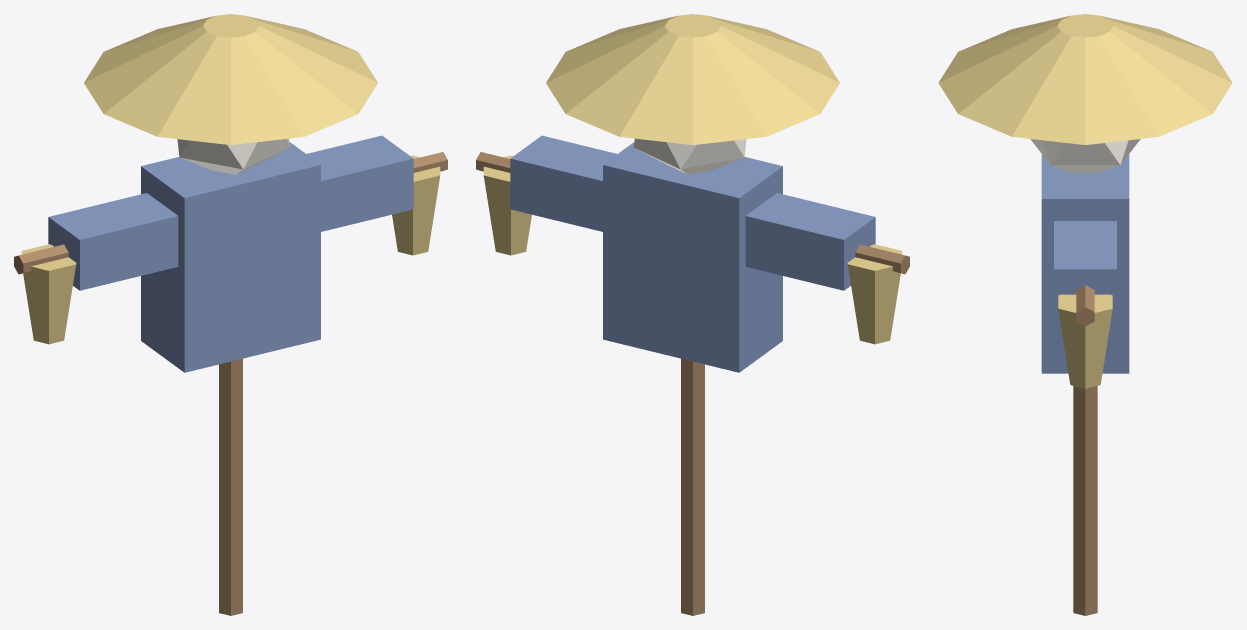
Rendered from kakashi.glb.
3 views of the same model, side by side, from view 1: azimuth 30°, elevation 25°; view 2: azimuth 150°, elevation 25°; view 3: azimuth 270°, elevation 25° (orthographic).
Parts seen in each view (by area): view 1: kakashi; view 2: kakashi; view 3: kakashi.
Boxes of the visible parts, left/top/right/bottom form: kakashi: left=14, top=14, right=447, bottom=615; kakashi: left=476, top=14, right=909, bottom=615; kakashi: left=938, top=14, right=1232, bottom=615.
Bounding box in the file's own units: 1.4 × 1.84 × 0.84.
